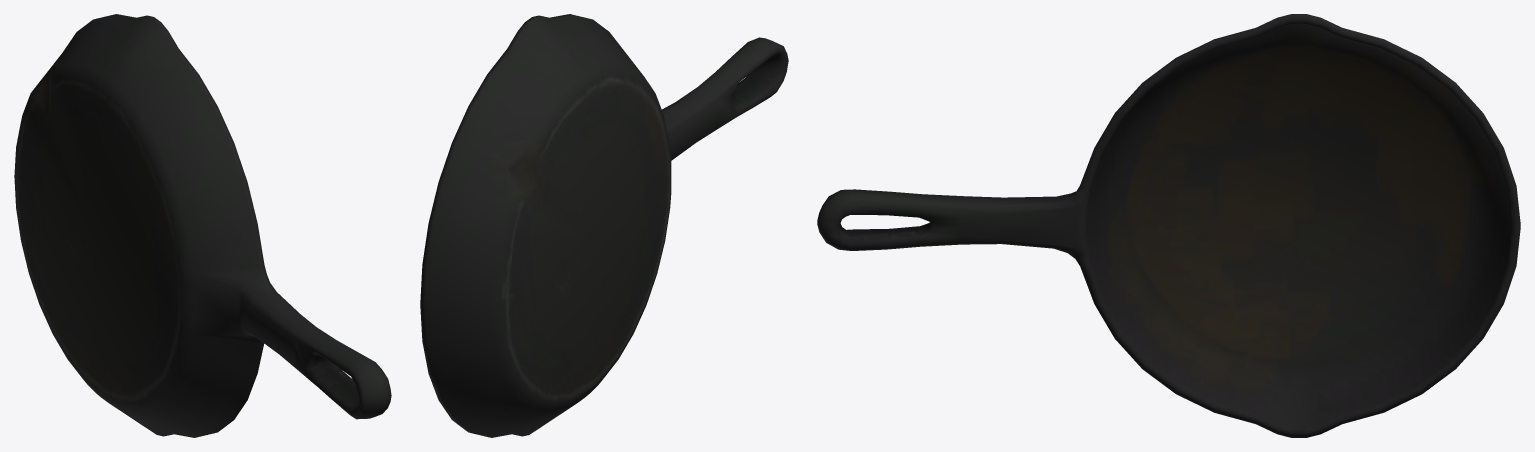
File: frying_pan.gltf
3 views of the same model, side by side, from view 1: azimuth 30°, elevation 25°; view 2: azimuth 150°, elevation 25°; view 3: azimuth 270°, elevation 25° (orthographic). The views are drawn at different scales.
Visible parts, largest first — view 1: c_frying_pan_reference_c_frying_pan_reference.001; view 2: c_frying_pan_reference_c_frying_pan_reference.001; view 3: c_frying_pan_reference_c_frying_pan_reference.001.
Boxes of the visible parts, x1,y1,x2,y2 form: c_frying_pan_reference_c_frying_pan_reference.001: (14,14,391,437); c_frying_pan_reference_c_frying_pan_reference.001: (420,14,788,437); c_frying_pan_reference_c_frying_pan_reference.001: (817,14,1520,437).
Bounding box in the file's own units: 2.63 × 16.42 × 24.84.
1 material, 1 textured.
